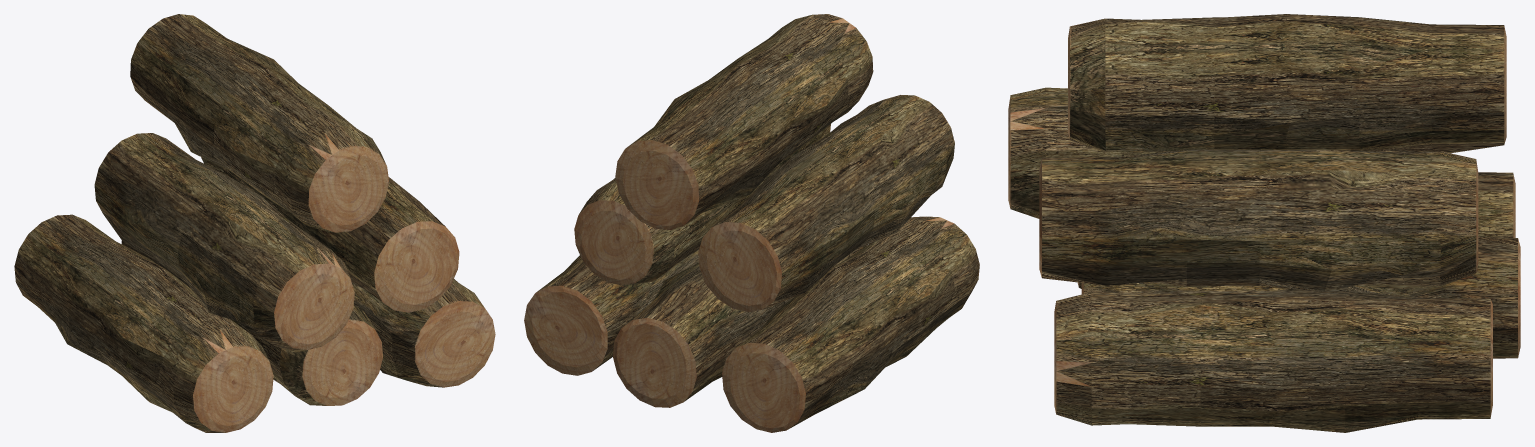
File: Wood.obj
The picture shows the model from 3 angles, left to right: view 1: azimuth 30°, elevation 25°; view 2: azimuth 150°, elevation 25°; view 3: azimuth 270°, elevation 25°; orthographic projection. The views are drawn at different scales.
Parts seen in each view (by area): view 1: Wood.004_Cylinder.009, Wood.005_Cylinder.010, Wood_Cylinder, Wood.003_Cylinder.008, Wood.002_Cylinder.007, Wood.001_Cylinder.006; view 2: Wood.004_Cylinder.009, Wood.005_Cylinder.010, Wood_Cylinder, Wood.001_Cylinder.006, Wood.002_Cylinder.007, Wood.003_Cylinder.008; view 3: Wood.003_Cylinder.008, Wood.002_Cylinder.007, Wood.005_Cylinder.010, Wood.001_Cylinder.006, Wood.004_Cylinder.009, Wood_Cylinder.
Part boxes in pixels (x1,y1,x2,y2): Wood.004_Cylinder.009: [94, 133, 354, 352]; Wood.005_Cylinder.010: [130, 14, 389, 232]; Wood_Cylinder: [14, 214, 273, 432]; Wood.003_Cylinder.008: [201, 157, 459, 312]; Wood.002_Cylinder.007: [352, 279, 495, 387]; Wood.001_Cylinder.006: [121, 241, 382, 405]; Wood.004_Cylinder.009: [698, 95, 954, 311]; Wood.005_Cylinder.010: [615, 14, 873, 230]; Wood_Cylinder: [722, 216, 979, 432]; Wood.001_Cylinder.006: [613, 245, 867, 407]; Wood.002_Cylinder.007: [524, 249, 698, 375]; Wood.003_Cylinder.008: [574, 124, 830, 285]; Wood.003_Cylinder.008: [1039, 149, 1478, 291]; Wood.002_Cylinder.007: [1054, 285, 1492, 432]; Wood.005_Cylinder.010: [1068, 14, 1506, 153]; Wood.001_Cylinder.006: [1081, 236, 1520, 358]; Wood.004_Cylinder.009: [1008, 87, 1405, 218]; Wood_Cylinder: [1077, 172, 1515, 288].
Size of the model in its own units: 6.44 by 5.73 by 7.47.
Materials: 2 (2 with a texture image).
